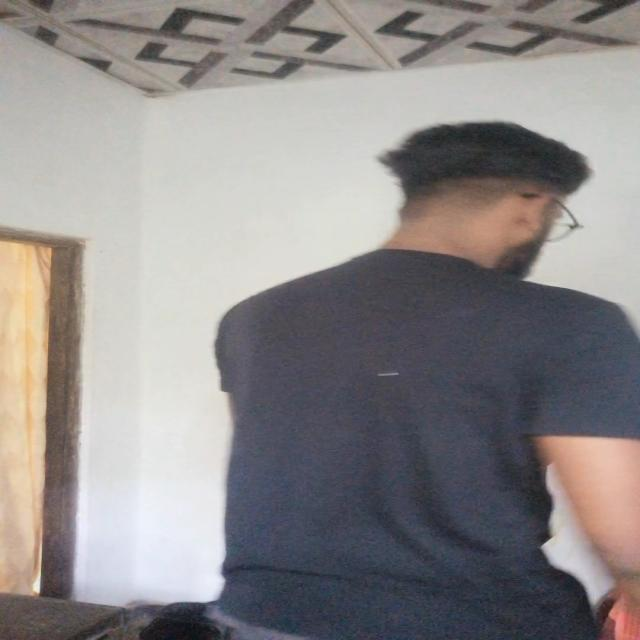Person: (191, 116, 640, 640)
